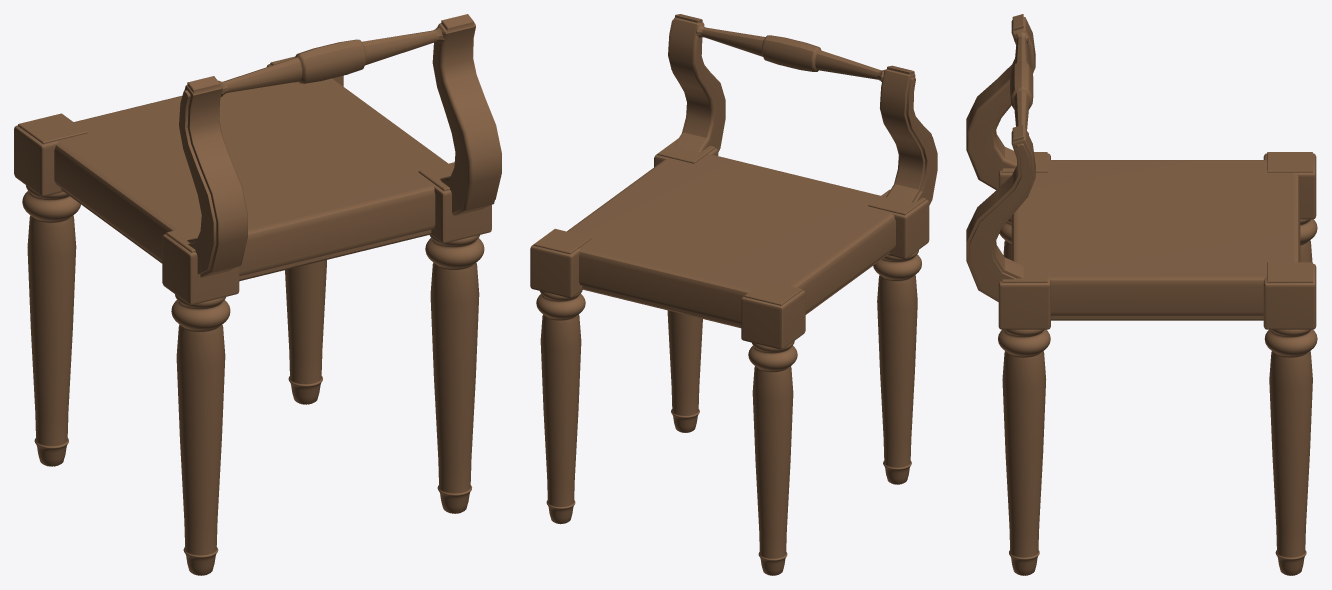
File: Chair.fbx
3 views of the same model, side by side, from view 1: azimuth 30°, elevation 25°; view 2: azimuth 150°, elevation 25°; view 3: azimuth 270°, elevation 25° (orthographic). The views are drawn at different scales.
Parts seen in each view (by area): view 1: Back; view 2: Back; view 3: Back.
Boxes of the visible parts, bbox=[...] form: Back: bbox=[14, 14, 501, 575]; Back: bbox=[530, 14, 937, 575]; Back: bbox=[966, 14, 1317, 575].
Bounding box in the file's own units: 2.39 × 3.72 × 2.66.
